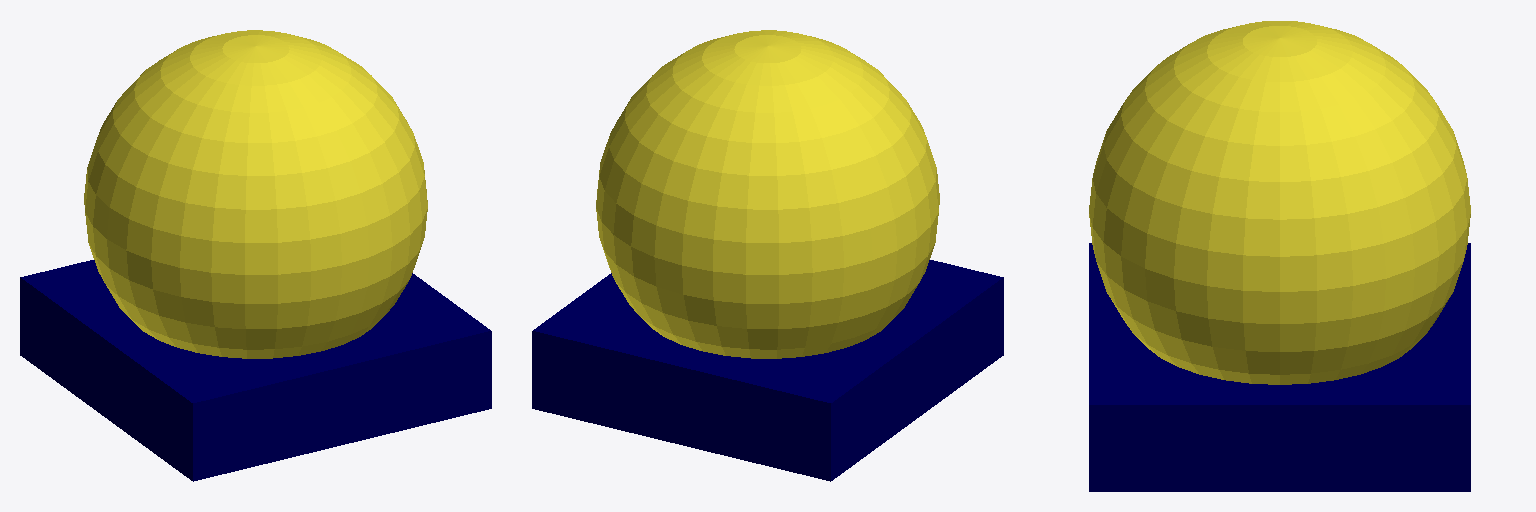
The robot description file, URDF, robot "PPPBot":
<?xml version="1.0" ?>

<robot name="PPPBot">
    <link name="base_link">
        <inertial>
            <origin xyz="0.0 0.0 0.0" rpy="0 0 0" />
            <mass value="1" />
            <inertia ixx="0.1" iyy="0.1" izz="0.1" ixy="0" ixz="0" iyz="0" />
        </inertial>
    </link>
    <link name="link0">
        <inertial>
            <origin xyz="0.0 0.0 0.0" rpy="0 0 0" />
            <mass value="0.01" />
            <inertia ixx="0.1" iyy="0.1" izz="0.1" ixy="0" ixz="0" iyz="0" />
        </inertial>
    </link>
    <link name="link1">
        <inertial>
            <origin xyz="0.0 0.0 0.0" rpy="0 0 0" />
            <mass value="0.01" />
            <inertia ixx="0.1" iyy="0.1" izz="0.1" ixy="0" ixz="0" iyz="0" />
        </inertial>
    </link>
    <link name="link2">
        <inertial>
            <origin xyz="0.0 0.0 0.0" rpy="0 0 0" />
            <mass value="5" />
            <inertia ixx="0.1" iyy="0.1" izz="0.1" ixy="0" ixz="0" iyz="0" />
        </inertial>
        <visual>
            <origin xyz="0.0 0.0 0.0" rpy="0 0 0" />
            <geometry>
                <sphere radius="0.1" />
            </geometry>
        </visual>
    </link>    

    <link name="sensor_link">
        <inertial>
            <origin xyz="0.0 0.0 0.0" rpy="0 0 0" />
            <mass value="0.01" />
            <inertia ixx="0.001" iyy="0.001" izz="0.001" ixy="0" ixz="0" iyz="0" />
        </inertial>
        <collision>
            <origin xyz="0.0 0.0 0.0" rpy="0 0 0" />
            <geometry>
                <box size="0.2 0.2 0.05" />
            </geometry>
        </collision>
        <visual>
            <origin xyz="0.0 0.0 0.0" rpy="0 0 0" />
            <geometry>
                <box size="0.2 0.2 0.05" />
            </geometry>
            <material name="custom">
                <color rgba="0.0 0.0 0.4 1.0" />
            </material>
        </visual>
    </link>
    
    <joint name="j0" type="prismatic">
        <parent link="base_link" />
        <child link="link0" />
        <origin xyz="0.000000 0.000000 1.000000" rpy="-0.000000 0.000000 -0.000000" />
        <axis xyz="0 0 1" />
        <limit lower="-2.967" upper="2.967" effort="176" velocity="1.7104" />
    </joint>
    <joint name="j1" type="prismatic">
        <parent link="link0" />
        <child link="link1" />
        <origin xyz="0.000000 0.000000 0.000000" rpy="-0.000000 0.000000 -0.000000" />
        <axis xyz="0 1 0" />
        <limit lower="-2.967" upper="2.967" effort="176" velocity="1.7104" />
    </joint>
    <joint name="j2" type="prismatic">
        <parent link="link1" />
        <child link="link2" />
        <origin xyz="0.000000 0.000000 0.000000" rpy="-0.000000 0.000000 -0.000000" />
        <axis xyz="1 0 0" />
        <limit lower="-2.967" upper="2.967" effort="176" velocity="1.7104" />
    </joint>
    <joint name="j_sensor" type="fixed">
        <parent link="link2" />
        <child link="sensor_link" />
        <origin xyz="0.000000 0.000000 -0.090000" rpy="0.000000 0.000000 -0.000000" />
    </joint>

</robot>

--- What the picture shows (computed from the rendered views, not written in the file) ---
Views: 3 orthographic renders of the robot side by side, from view 1: azimuth 30°, elevation 25°; view 2: azimuth 150°, elevation 25°; view 3: azimuth 270°, elevation 25°.
Model PPPBot with 5 links and 4 joints (3 prismatic, 1 fixed), rooted at base_link, posed all joints at 0.
Links seen in each view (by area): view 1: link2, sensor_link; view 2: link2, sensor_link; view 3: link2, sensor_link.
Boxes of the visible links, x1,y1,x2,y2 form: link2: (84, 30, 427, 358); sensor_link: (20, 260, 491, 481); link2: (596, 30, 939, 358); sensor_link: (532, 260, 1003, 481); link2: (1089, 21, 1470, 384); sensor_link: (1089, 243, 1470, 491).
Size in the robot's own frame: 0.2 by 0.2 by 0.215 metres.
Geometry: primitives only (box / cylinder / sphere), no mesh files.
